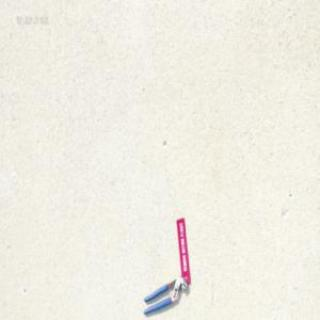LuggageTagtrack_idkeyframe: (175, 215, 190, 282)
Pliertrack_idkeyframe: (142, 274, 186, 313)
